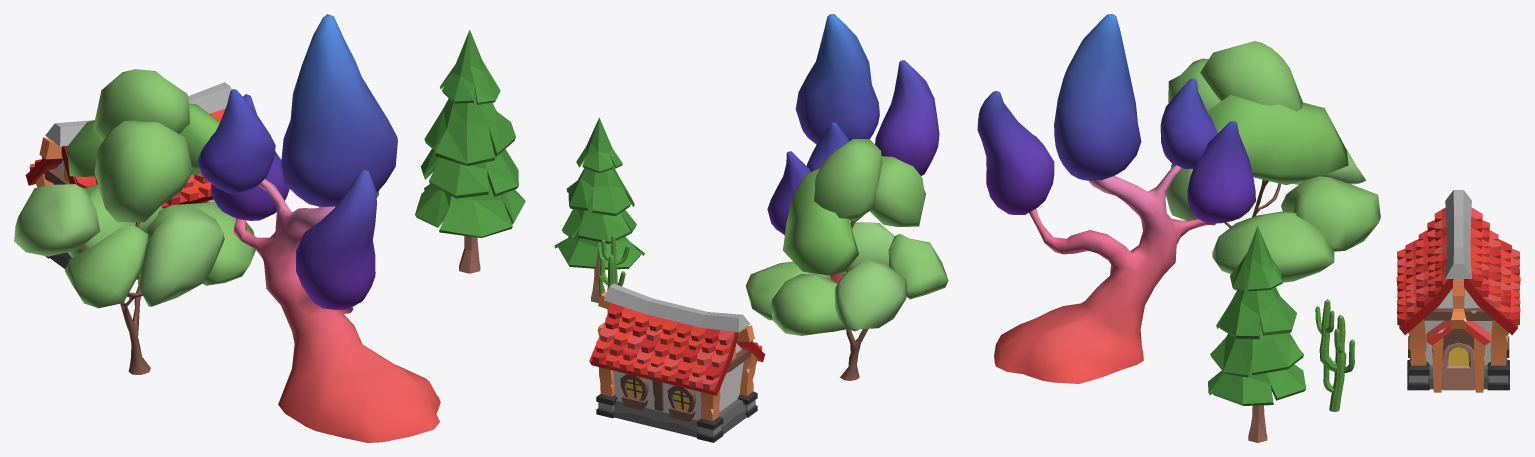
Rendered from pb_fri.glb.
The picture shows the model from 3 angles, left to right: view 1: azimuth 30°, elevation 25°; view 2: azimuth 150°, elevation 25°; view 3: azimuth 270°, elevation 25°; orthographic projection. The views are drawn at different scales.
Visible parts, largest first — view 1: fabulous_mushroom_002, tree_001, fir_001, house_003; view 2: tree_001, house_003, fabulous_mushroom_002, fir_001, cactus_001.002; view 3: fabulous_mushroom_002, tree_001, house_003, fir_001, cactus_001.002.
Part boxes in pixels (x1,y1,x2,y2): fabulous_mushroom_002: [197, 14, 440, 442]; tree_001: [14, 69, 255, 374]; fir_001: [415, 30, 525, 273]; house_003: [25, 82, 231, 279]; tree_001: [745, 139, 948, 380]; house_003: [589, 283, 765, 442]; fabulous_mushroom_002: [767, 14, 939, 283]; fir_001: [554, 117, 644, 303]; cactus_001.002: [599, 234, 629, 312]; fabulous_mushroom_002: [977, 14, 1255, 383]; tree_001: [1166, 41, 1380, 282]; house_003: [1396, 190, 1520, 392]; fir_001: [1208, 226, 1306, 442]; cactus_001.002: [1315, 299, 1354, 411].
Bounding box in the file's own units: 12.86 × 10.07 × 14.31.
1 material, 1 textured.
